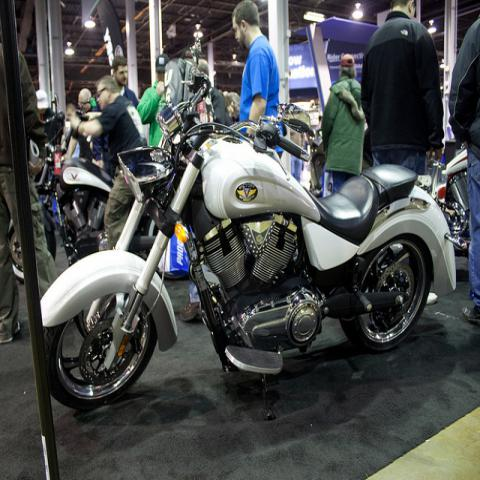motorcycle: (41, 18, 467, 419), (51, 93, 116, 266), (10, 200, 57, 284), (437, 146, 470, 244)
